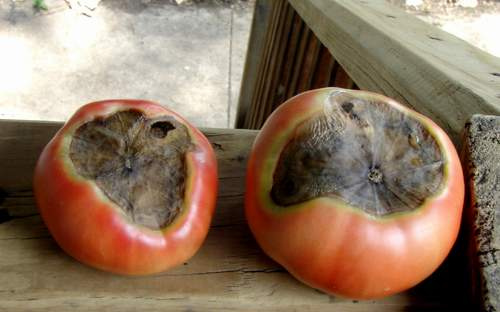blossom_rotw: (269, 95, 444, 236), (61, 100, 203, 239)
